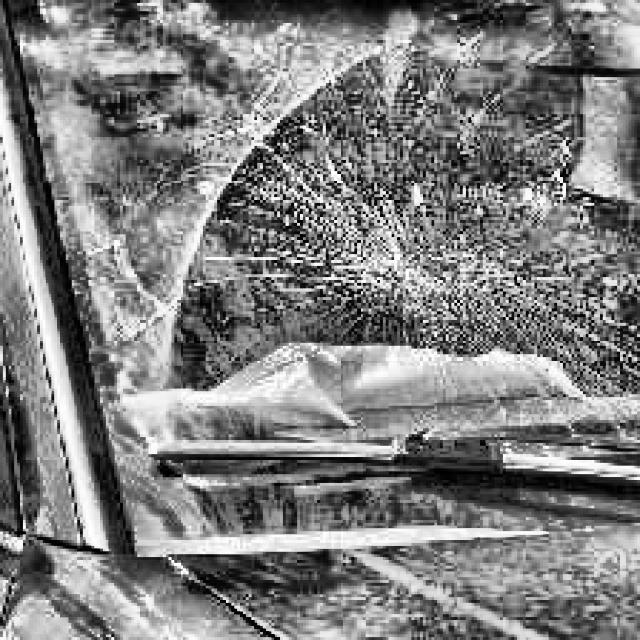glass_shatter: (326, 202, 546, 358)
